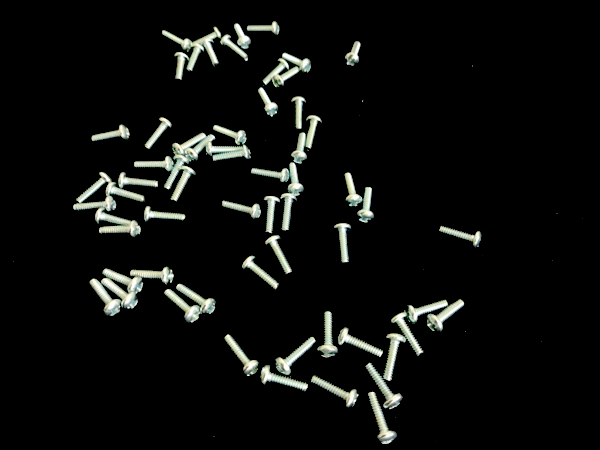shortscrew: (365, 364, 404, 409), (388, 312, 425, 357), (368, 391, 398, 446), (275, 337, 317, 376), (224, 335, 261, 378), (311, 376, 359, 409), (426, 299, 467, 334), (337, 328, 384, 358), (176, 284, 217, 318), (164, 289, 202, 325), (242, 256, 280, 291), (89, 279, 122, 319), (259, 365, 309, 391), (102, 278, 139, 312), (383, 333, 408, 382), (265, 236, 294, 277), (77, 171, 113, 204), (404, 299, 449, 325), (438, 224, 483, 249), (103, 269, 143, 294), (222, 199, 262, 223), (171, 166, 196, 203), (145, 118, 173, 151), (106, 182, 147, 204), (164, 156, 189, 192), (318, 312, 337, 359), (262, 58, 290, 88), (130, 267, 174, 286), (220, 34, 249, 62), (185, 135, 215, 162), (92, 125, 131, 145), (334, 224, 353, 264), (212, 124, 248, 145), (144, 206, 186, 224), (73, 197, 117, 214), (118, 172, 159, 190), (99, 221, 141, 238), (264, 196, 282, 235), (271, 66, 300, 90), (173, 134, 206, 155), (282, 52, 312, 75), (280, 194, 298, 232), (258, 86, 279, 118), (134, 157, 175, 173), (344, 173, 363, 207), (286, 163, 305, 197), (305, 115, 323, 150), (357, 187, 374, 224), (191, 27, 222, 47), (251, 168, 289, 184), (290, 133, 309, 164), (291, 97, 308, 131), (247, 21, 281, 38), (96, 208, 130, 225), (162, 31, 192, 50), (201, 39, 220, 68), (232, 23, 252, 50), (187, 45, 205, 73), (344, 41, 362, 68), (173, 52, 189, 82)
